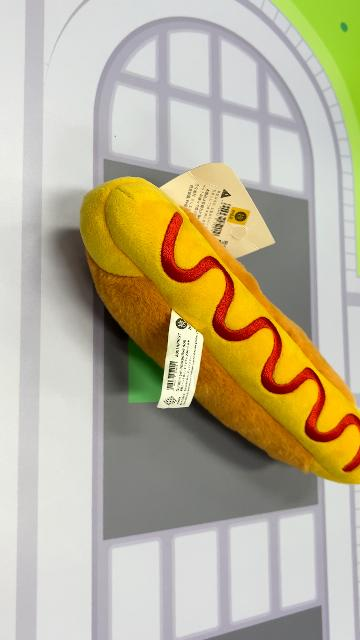hotdog: (80, 179, 360, 485)
